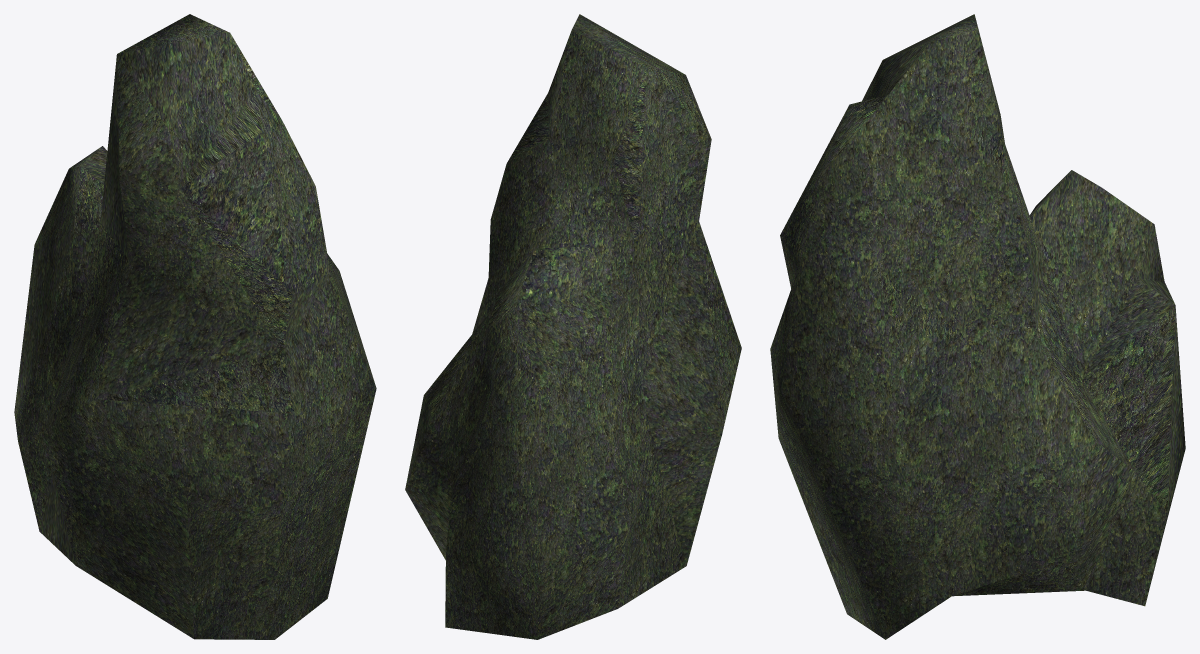
Rendered from rock_pillar_00_lod_01.fbx.
The picture shows the model from 3 angles, left to right: view 1: azimuth 30°, elevation 25°; view 2: azimuth 150°, elevation 25°; view 3: azimuth 270°, elevation 25°; orthographic projection. The views are drawn at different scales.
Visible parts, largest first — view 1: rock_pillar_00; view 2: rock_pillar_00; view 3: rock_pillar_00.
Part boxes in pixels (x1,y1,x2,y2): rock_pillar_00: (14, 14, 376, 639); rock_pillar_00: (405, 14, 741, 639); rock_pillar_00: (770, 14, 1185, 639).
Size of the model in its own units: 24.72 by 46.66 by 30.53.
